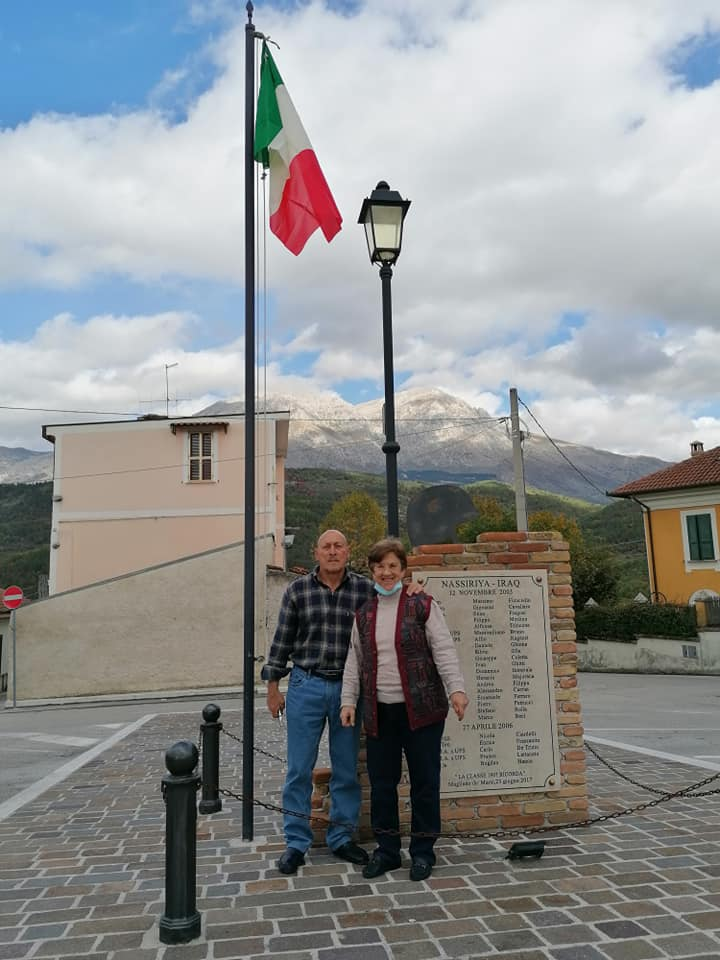Flag: (234, 32, 358, 257)
